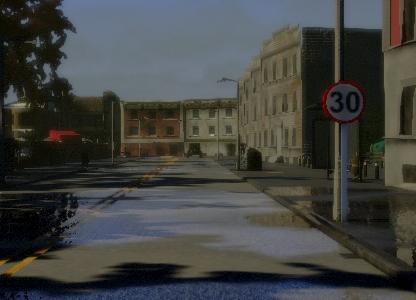Speed_30: (318, 78, 369, 127)
